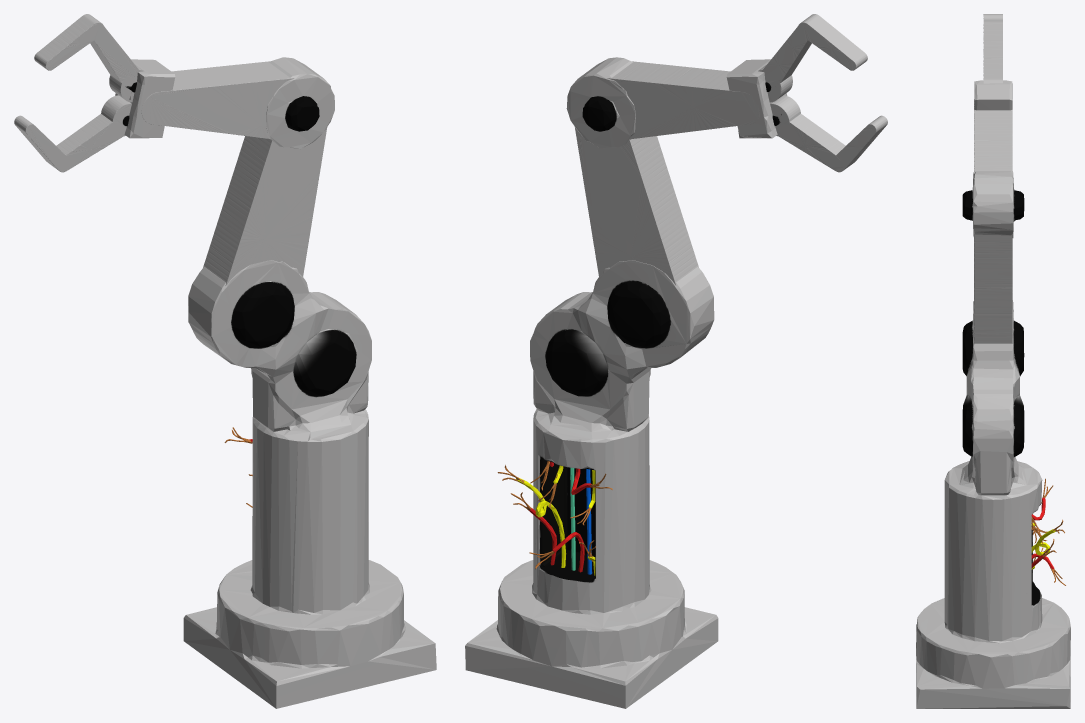
File: roboterarm_kaputt.obj
3 views of the same model, side by side, from view 1: azimuth 30°, elevation 25°; view 2: azimuth 150°, elevation 25°; view 3: azimuth 270°, elevation 25° (orthographic). The views are drawn at different scales.
Parts seen in each view (by area): view 1: 283512_23_05_25_13_54_47_0, 283512_23_05_25_13_54_47_1, 283512_23_05_25_13_54_47_3; view 2: 283512_23_05_25_13_54_47_0, 283512_23_05_25_13_54_47_1, 283512_23_05_25_13_54_47_4, 283512_23_05_25_13_54_47_3; view 3: 283512_23_05_25_13_54_47_0, 283512_23_05_25_13_54_47_1, 283512_23_05_25_13_54_47_4.
Boxes of the visible parts, left/top/right/bottom form: 283512_23_05_25_13_54_47_0: left=115, top=57, right=436, bottom=708; 283512_23_05_25_13_54_47_1: left=14, top=14, right=327, bottom=285; 283512_23_05_25_13_54_47_3: left=101, top=95, right=131, bottom=136; 283512_23_05_25_13_54_47_0: left=465, top=57, right=787, bottom=708; 283512_23_05_25_13_54_47_1: left=575, top=14, right=887, bottom=285; 283512_23_05_25_13_54_47_4: left=516, top=461, right=595, bottom=575; 283512_23_05_25_13_54_47_3: left=770, top=95, right=800, bottom=136; 283512_23_05_25_13_54_47_0: left=916, top=80, right=1070, bottom=708; 283512_23_05_25_13_54_47_1: left=974, top=14, right=1012, bottom=343; 283512_23_05_25_13_54_47_4: left=1031, top=497, right=1055, bottom=569.
Bounding box in the file's own units: 27.22 × 48.34 × 11.83.
Materials: 13 (13 with a texture image).
